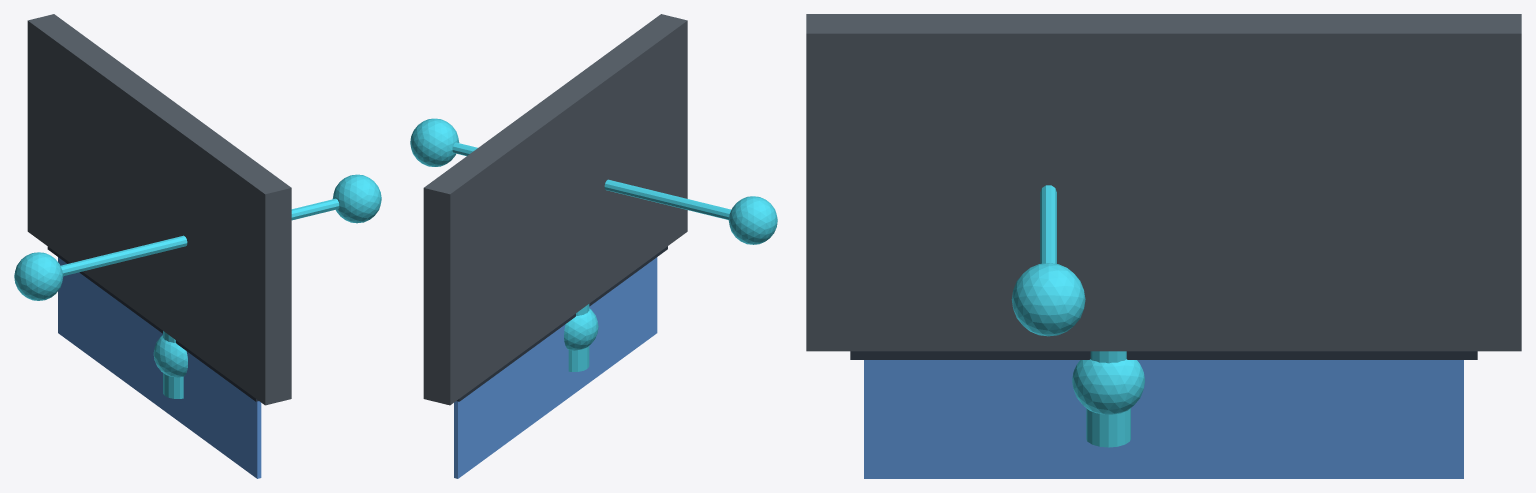
File: 02-dispositivo-protegido.glb
3 views of the same model, side by side, from view 1: azimuth 30°, elevation 25°; view 2: azimuth 150°, elevation 25°; view 3: azimuth 270°, elevation 25° (orthographic). The views are drawn at different scales.
Visible parts, largest first — view 1: part_000, part_002, part_005, part_006, part_007, part_004, part_001, part_003; view 2: part_000, part_002, part_006, part_007, part_005, part_004, part_001, part_003; view 3: part_000, part_002, part_001, part_007, part_004, part_003, part_005.
Boxes of the visible parts, x1,y1,x2,y2 form: part_000: (27, 14, 291, 405); part_002: (58, 257, 261, 478); part_005: (60, 198, 339, 276); part_006: (14, 252, 63, 300); part_007: (332, 174, 381, 223); part_004: (153, 335, 187, 377); part_001: (47, 246, 258, 401); part_003: (163, 331, 183, 398); part_000: (423, 14, 687, 405); part_002: (454, 257, 657, 478); part_006: (728, 196, 777, 244); part_007: (410, 118, 459, 166); part_005: (452, 142, 731, 219); part_004: (564, 308, 598, 350); part_001: (457, 246, 667, 401); part_003: (568, 304, 589, 371); part_000: (806, 14, 1521, 351); part_002: (864, 360, 1463, 478); part_001: (850, 351, 1477, 359); part_007: (1011, 263, 1085, 336); part_004: (1072, 359, 1144, 414); part_003: (1086, 351, 1130, 447); part_005: (1040, 185, 1056, 263).
Size of the model in its own units: 1.36 by 1.08 by 1.55.
